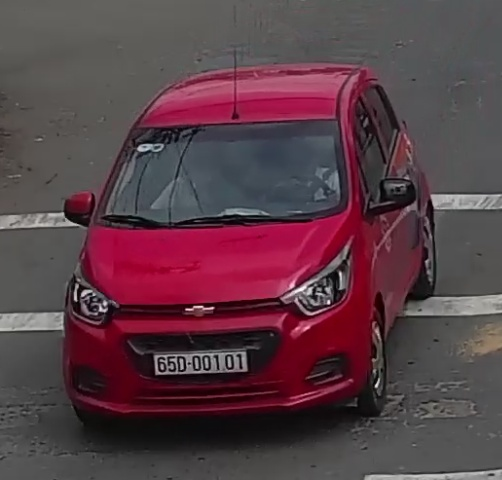vehicle plate: (143, 346, 252, 379)
